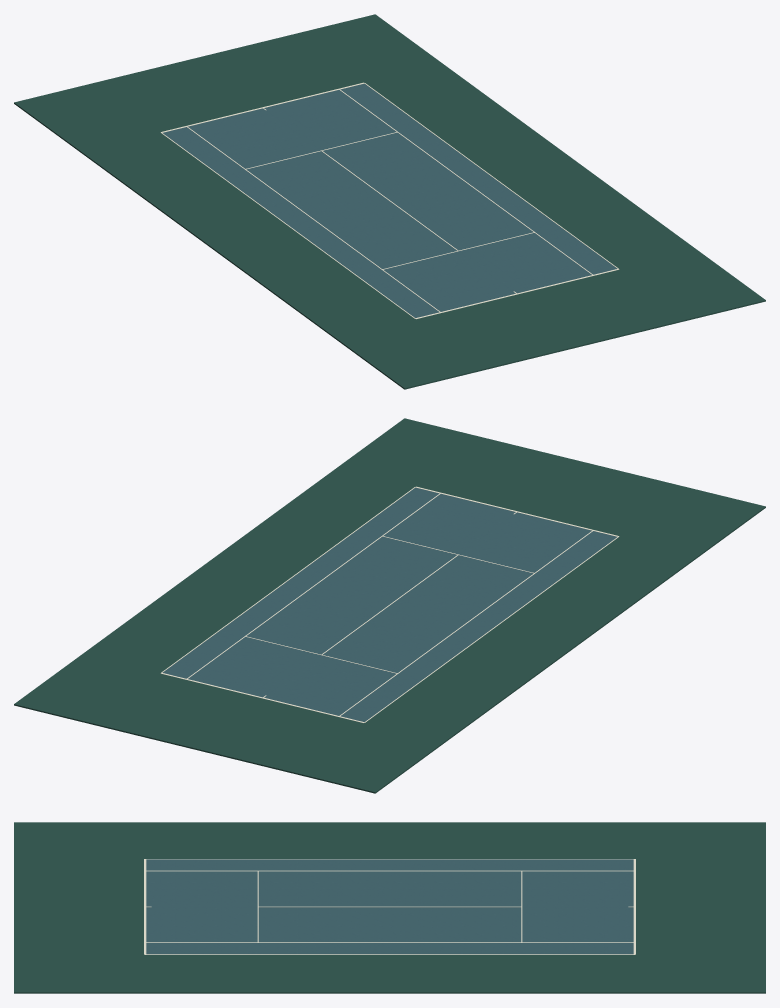
Rendered from court-hard.glb.
3 renders of one model, top to bottom at view 1: azimuth 30°, elevation 25°; view 2: azimuth 150°, elevation 25°; view 3: azimuth 270°, elevation 25°, orthographic. The views are drawn at different scales.
Visible parts, largest first — view 1: Court surround, Court surface, Ivory court lines; view 2: Court surround, Court surface, Ivory court lines; view 3: Court surround, Court surface, Ivory court lines.
Boxes of the visible parts, box(x1,y1,x2,y2) form: Court surround: box(14, 14, 765, 389); Court surface: box(163, 83, 617, 317); Ivory court lines: box(160, 82, 619, 319); Court surround: box(14, 418, 765, 793); Court surface: box(162, 487, 616, 721); Ivory court lines: box(160, 486, 619, 723); Court surround: box(14, 822, 765, 993); Court surface: box(146, 859, 633, 954); Ivory court lines: box(144, 859, 635, 954).
Bounding box in the file's own units: 19.5 × 0.095 × 36.5.
Materials: 3 (1 with a texture image).
